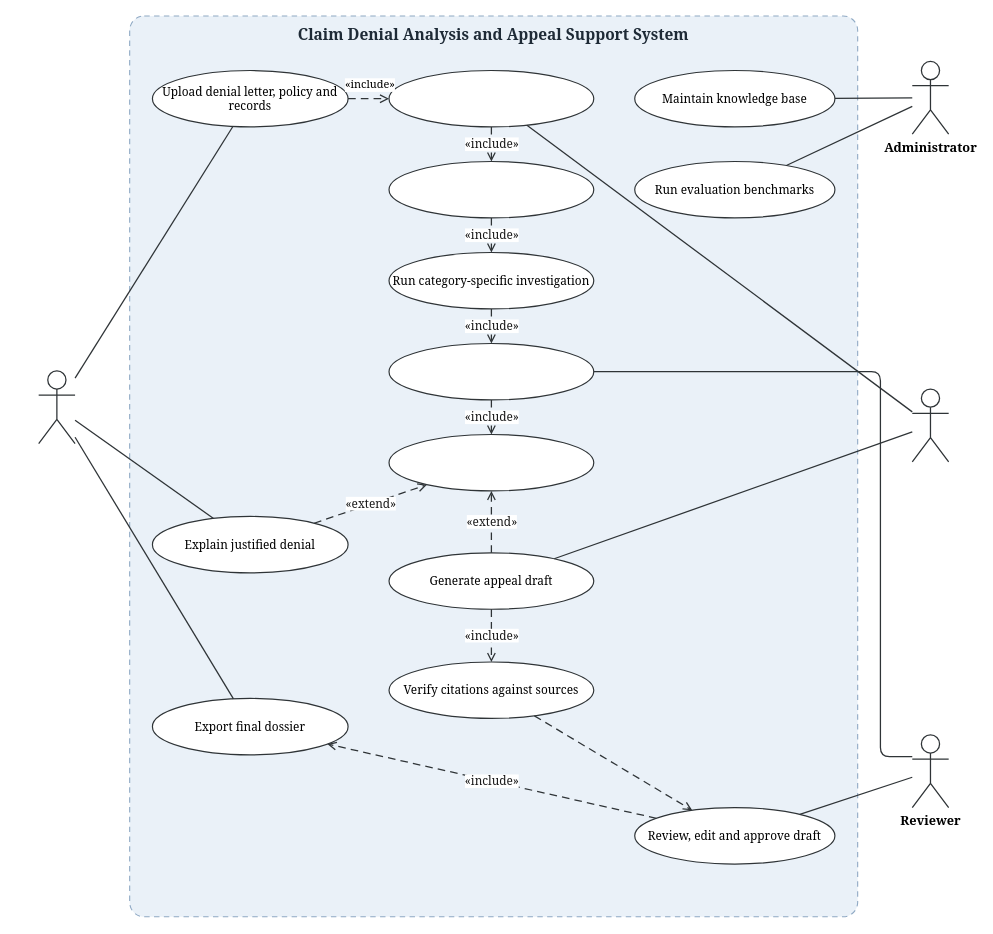
Some shapes in this 993 by 934 pixel diagram are drawn without their labels. Here are the shapes that lost their labels. From the top down, the centre of each, then its label:
the point at 491,98: Extract entities and reconstruct case facts
the point at 491,189: Categorize denial (seven categories)
the point at 491,371: Build evidence matrix
the point at 56,407: Policyholder
the point at 930,425: LLM Service
the point at 491,462: Assess denial (overturn / uphold / partial)
